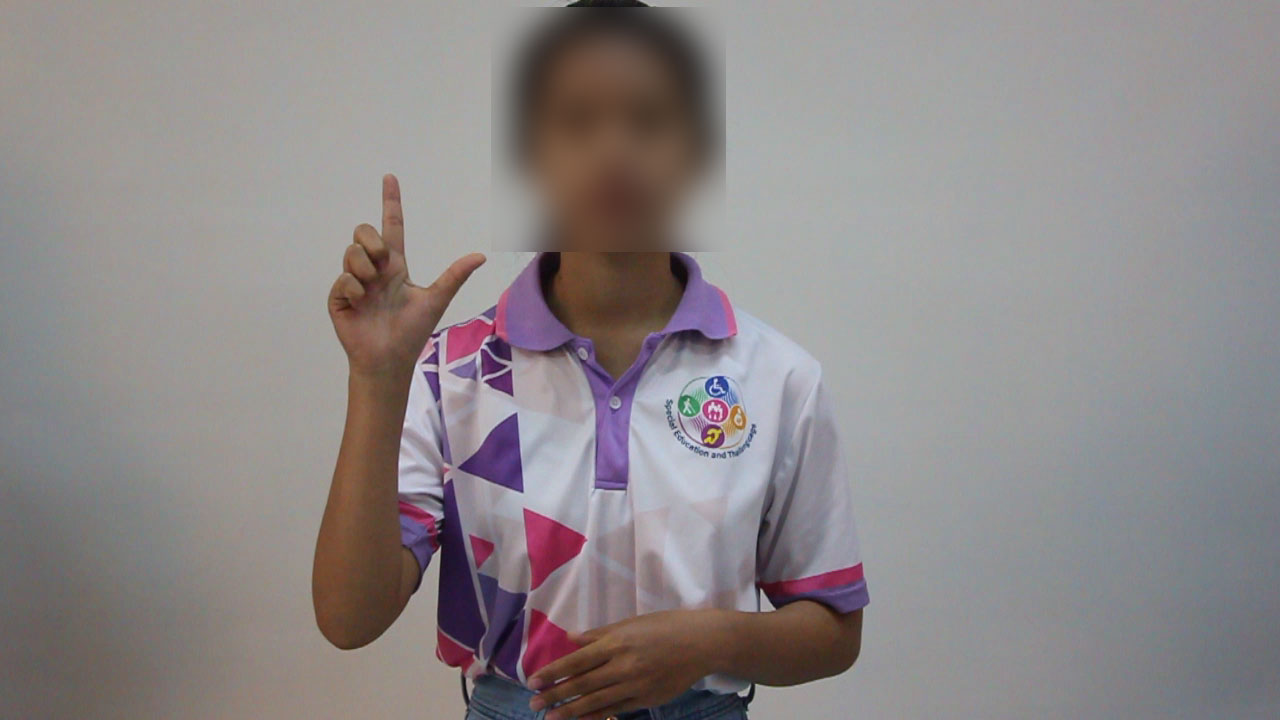lor: (295, 160, 490, 379)
